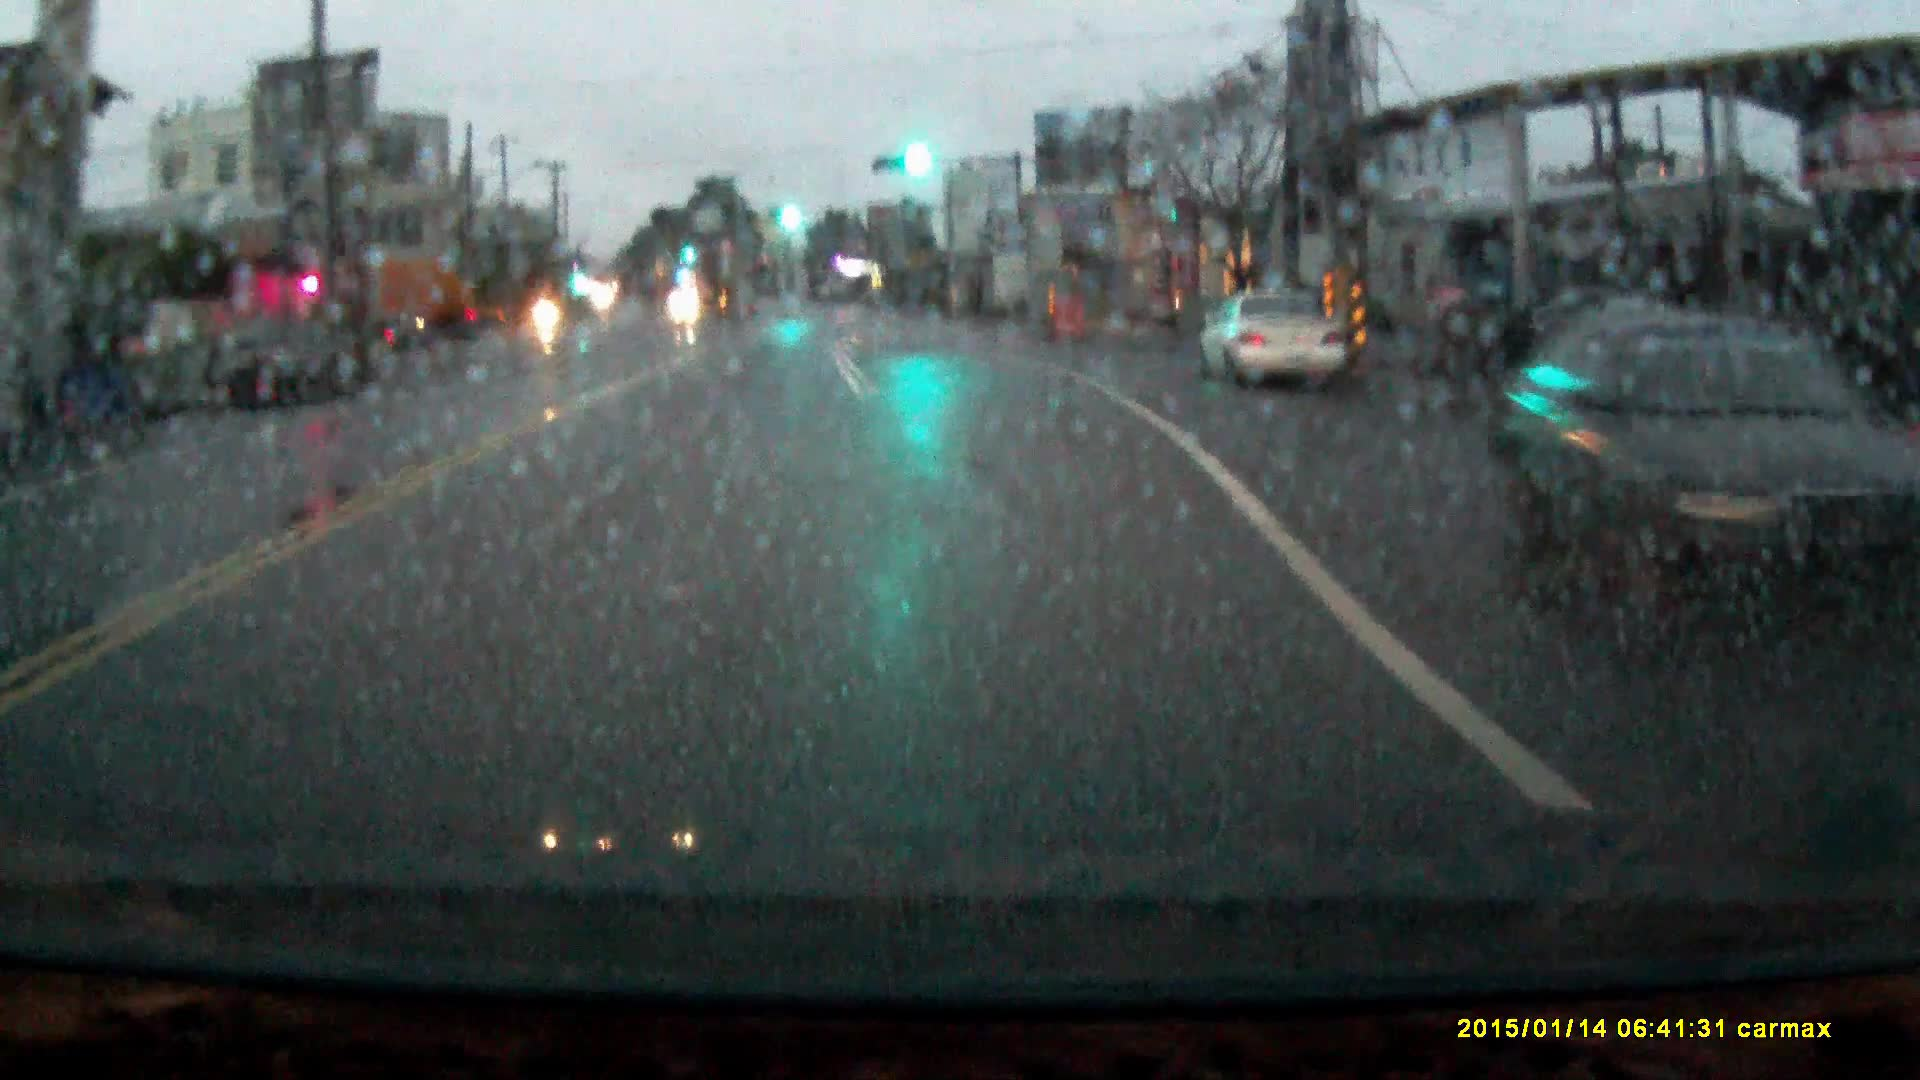rider: (531, 276, 565, 336)
vehicle: (1486, 309, 1888, 587), (1196, 288, 1341, 391), (349, 250, 504, 339), (200, 322, 353, 408), (671, 291, 699, 315)
